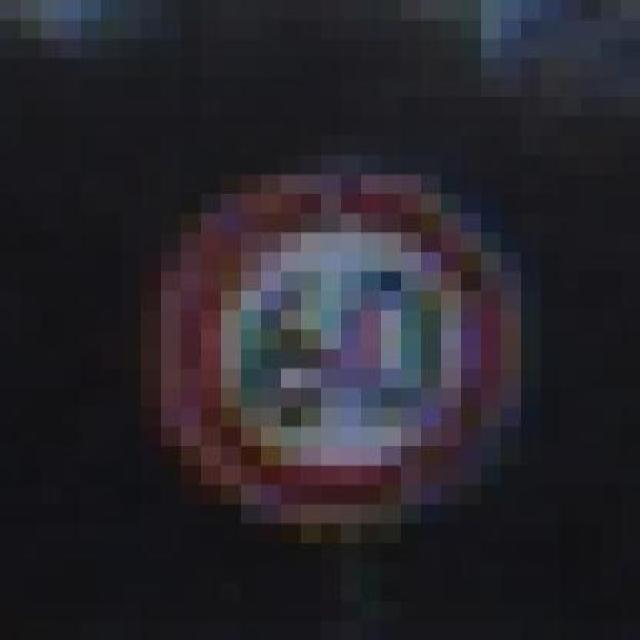forb_speed_over_60: (180, 185, 508, 517)
